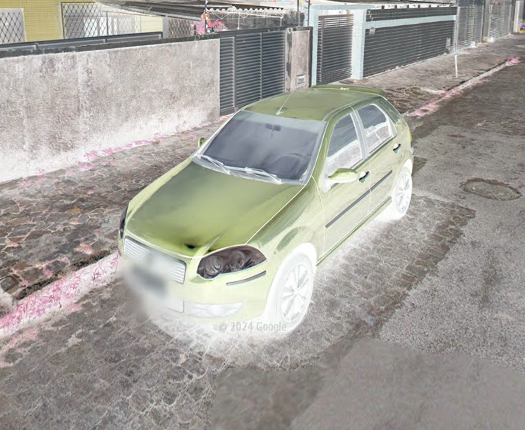car: (117, 83, 414, 333)
